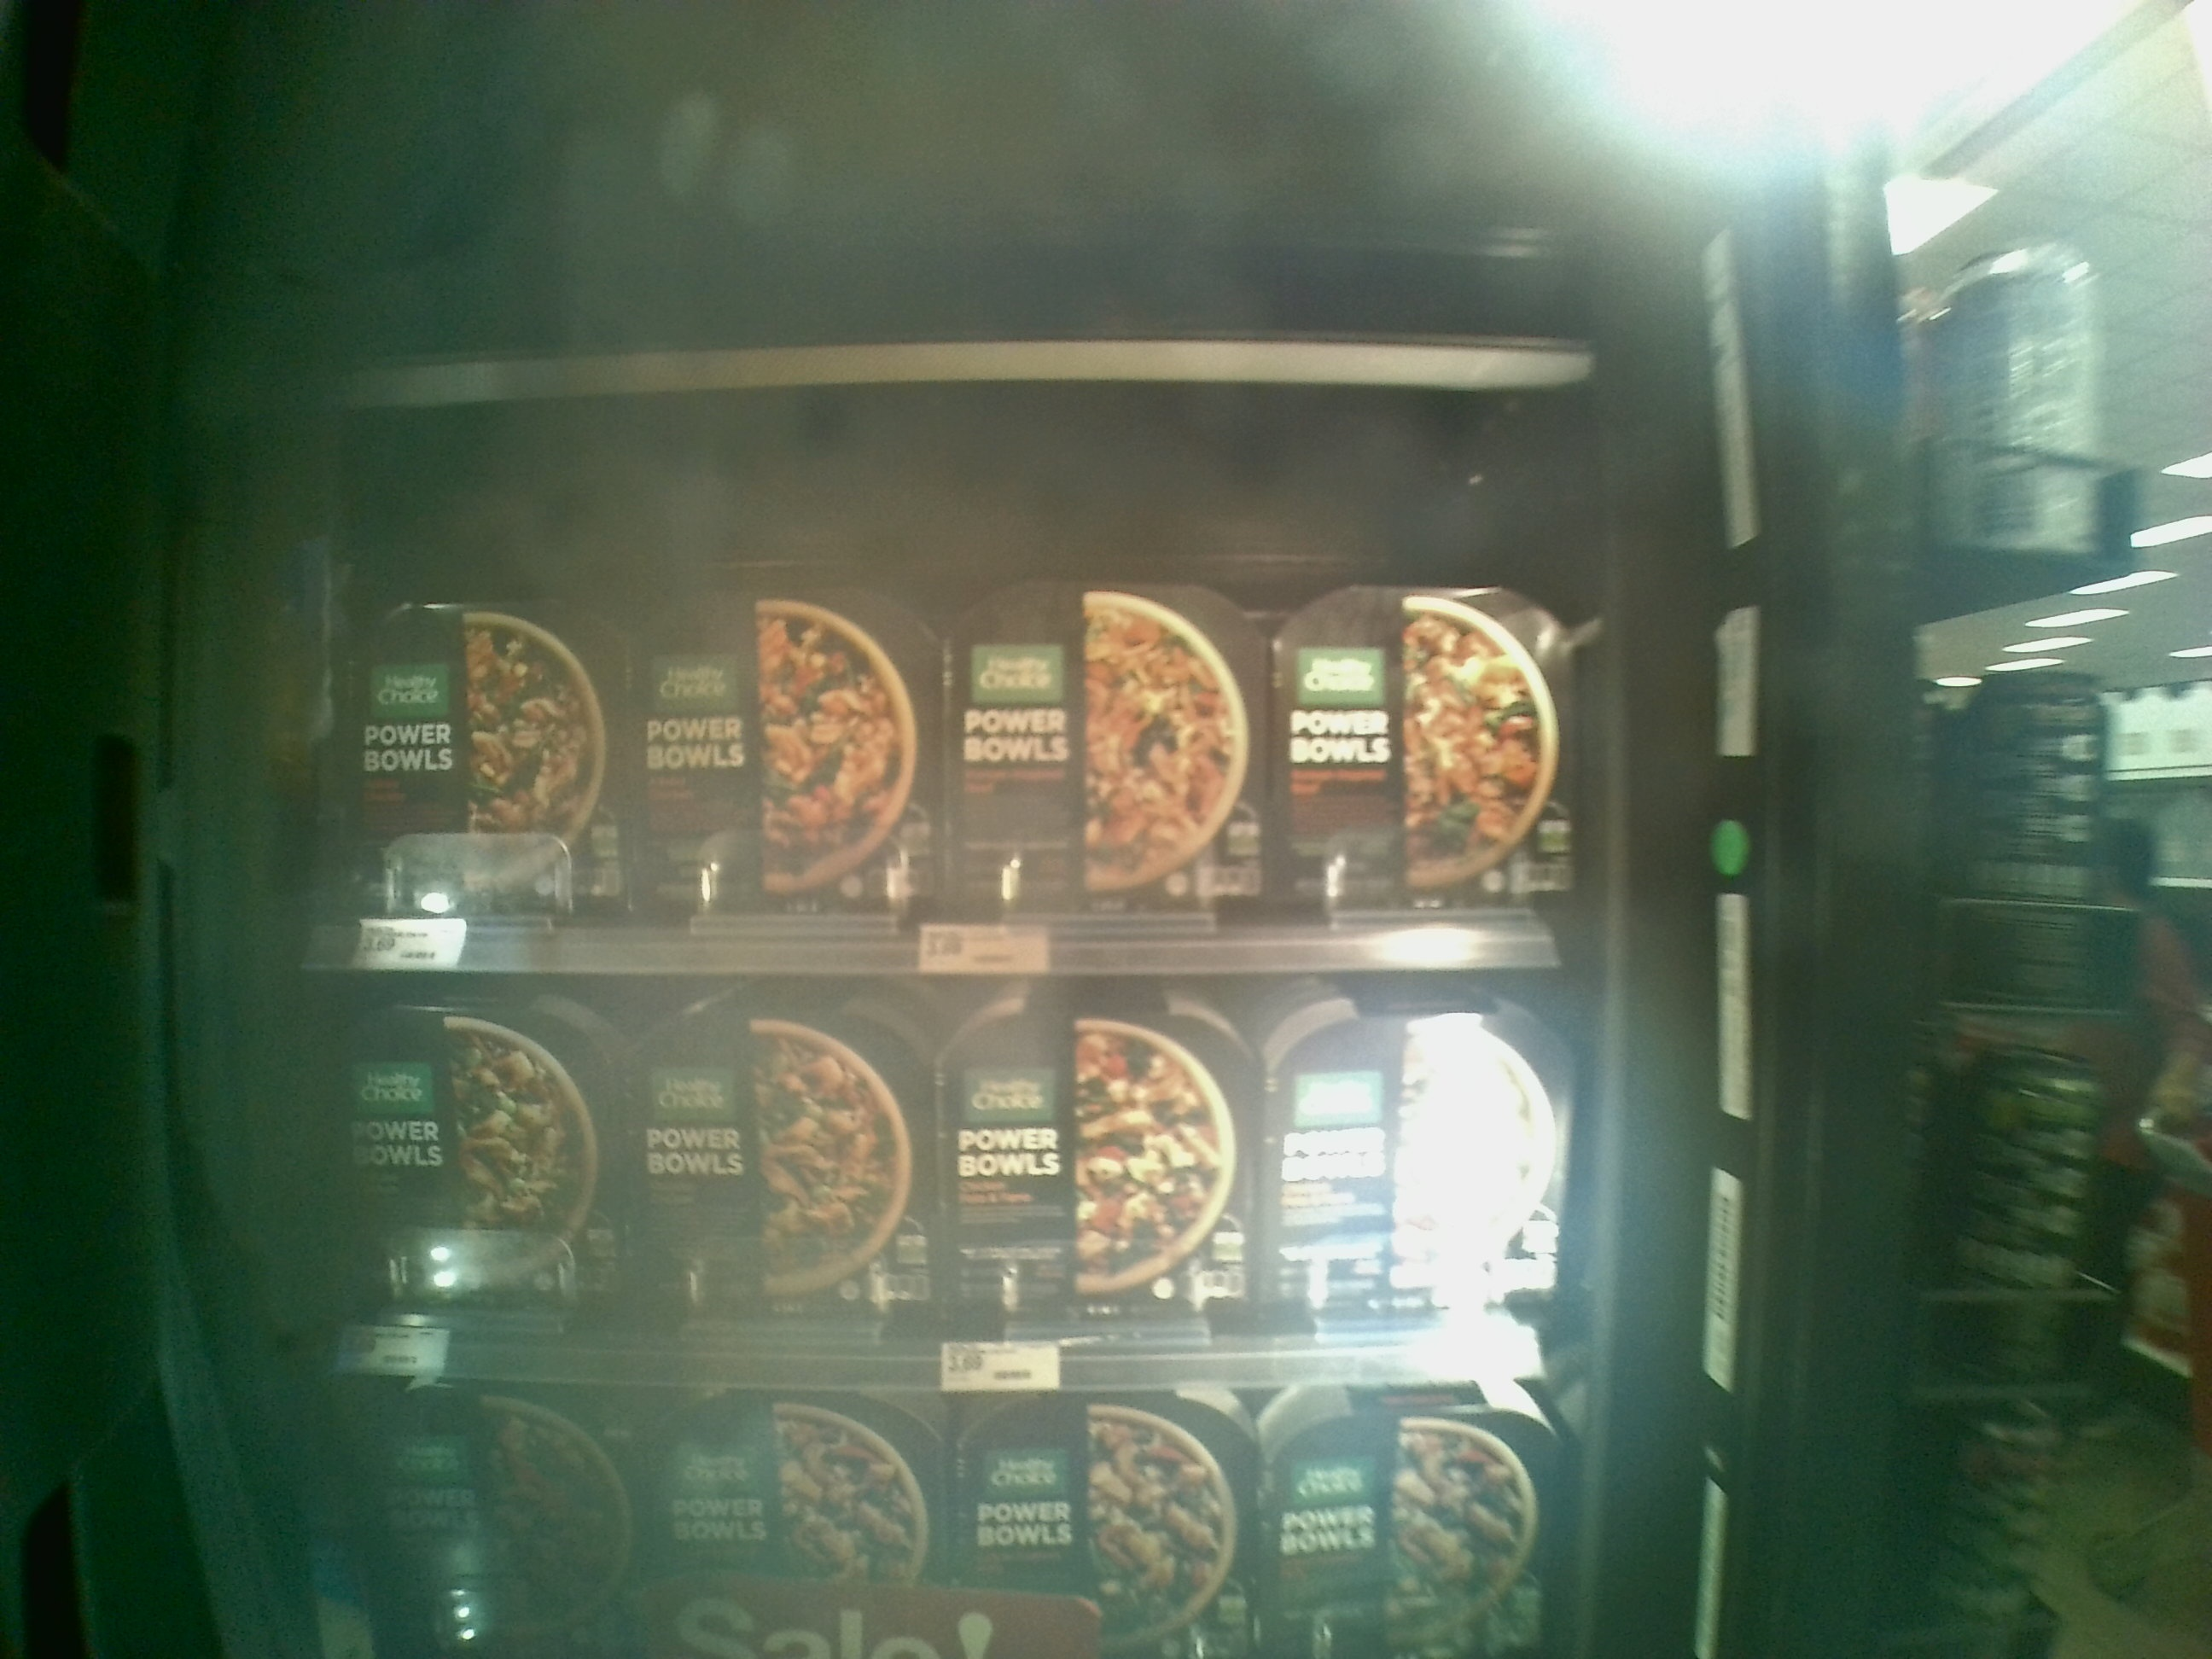shelf: (317, 347, 1562, 969)
